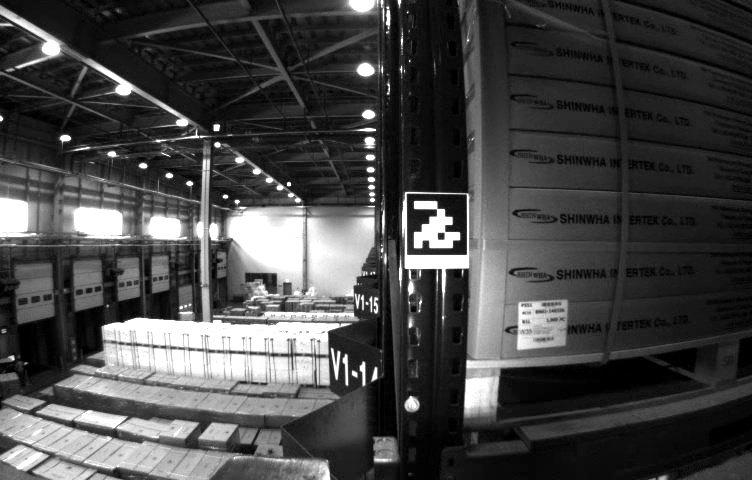True Barcode: (517, 298, 570, 349)
